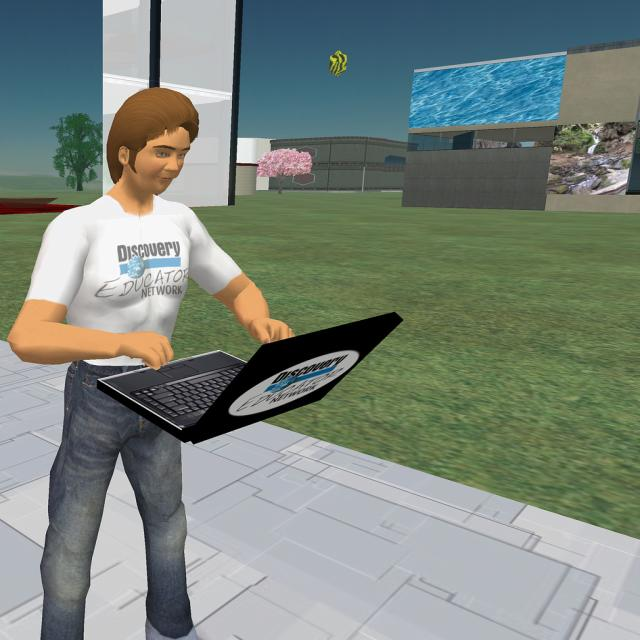Laptop: (104, 318, 370, 452)
